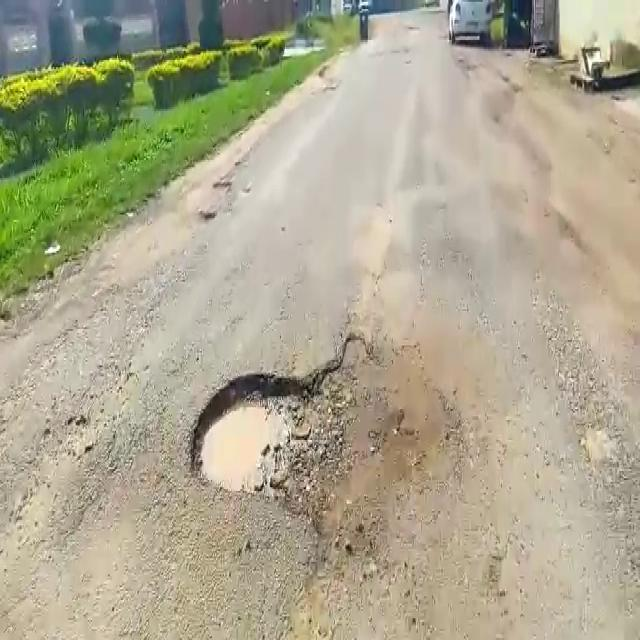pothole: (181, 335, 457, 536)
